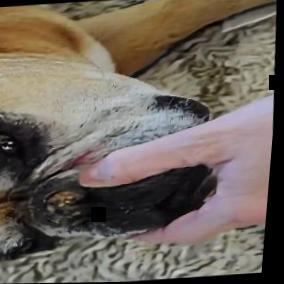keratosis: (42, 183, 97, 238)
